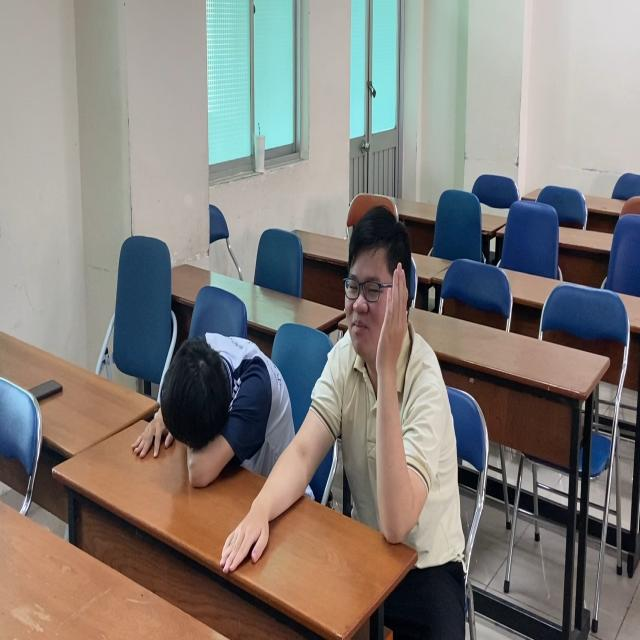raise_hand: (328, 202, 451, 558)
sleep: (131, 322, 301, 500)
